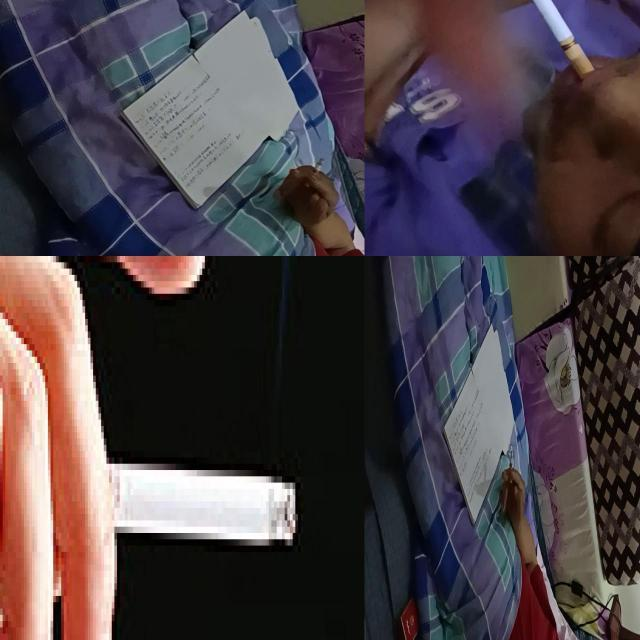cigarette: (46, 454, 296, 546), (499, 0, 596, 82), (304, 158, 325, 188), (510, 451, 512, 484)
